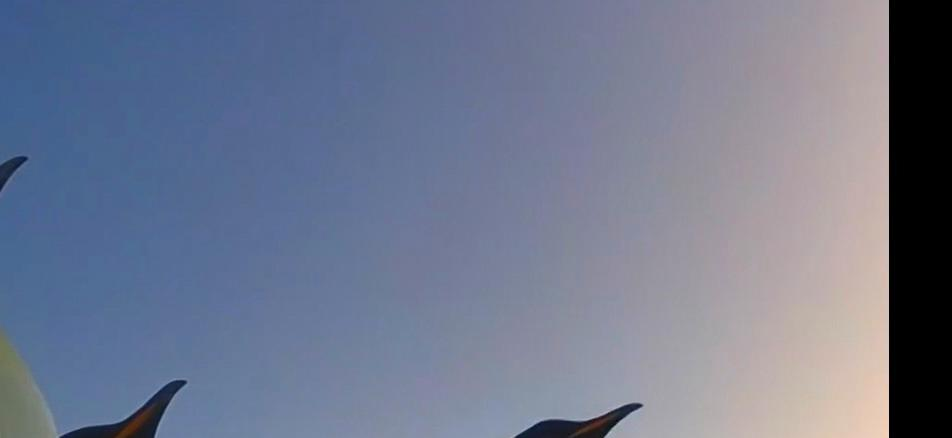Emperor Penguin: (0, 145, 131, 438), (369, 385, 673, 438)
